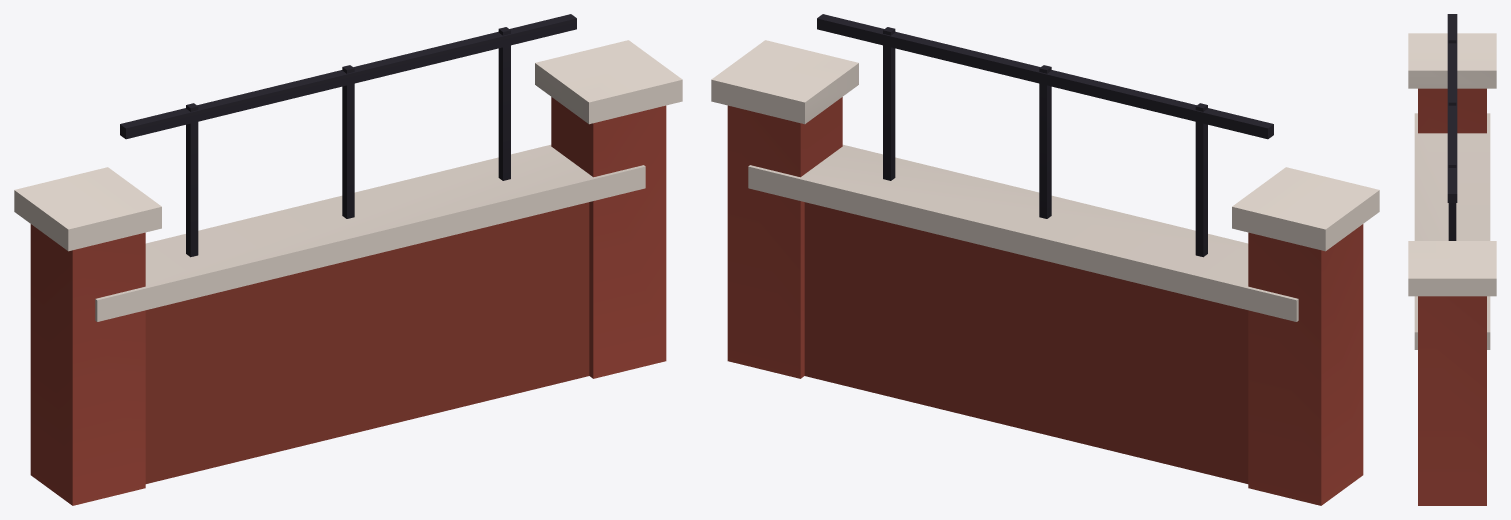
File: prop.cure-garden-wall.lod1.glb
3 views of the same model, side by side, from view 1: azimuth 30°, elevation 25°; view 2: azimuth 150°, elevation 25°; view 3: azimuth 270°, elevation 25° (orthographic). The views are drawn at different scales.
Parts seen in each view (by area): view 1: body; view 2: body; view 3: body.
Part boxes in pixels (x1,y1,x2,y2): body: (14, 14, 682, 505); body: (711, 14, 1379, 505); body: (1408, 14, 1496, 505).
Bounding box in the file's own units: 3.54 × 1.93 × 0.54.
